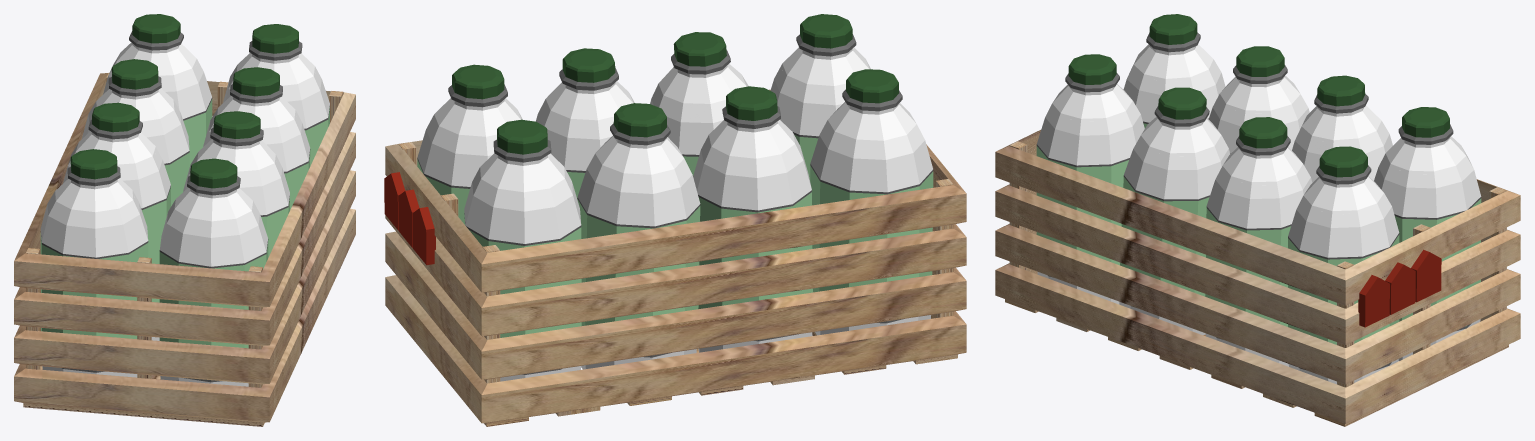
The model's file is milk_crate_v1.gltf.
3 views of the same model, side by side, from view 1: azimuth 30°, elevation 25°; view 2: azimuth 150°, elevation 25°; view 3: azimuth 270°, elevation 25° (orthographic). The views are drawn at different scales.
Parts seen in each view (by area): view 1: Crate, Milk; view 2: Crate, Milk; view 3: Crate, Milk.
Boxes of the visible parts, x1,y1,x2,y2 form: Crate: (14, 72, 355, 426); Milk: (40, 14, 329, 386); Crate: (384, 89, 966, 426); Milk: (417, 14, 933, 381); Crate: (995, 130, 1520, 426); Milk: (1036, 14, 1481, 384).
Bounding box in the file's own units: 1.46 × 0.7518 × 1.51.
Materials: 7 (2 with a texture image).
